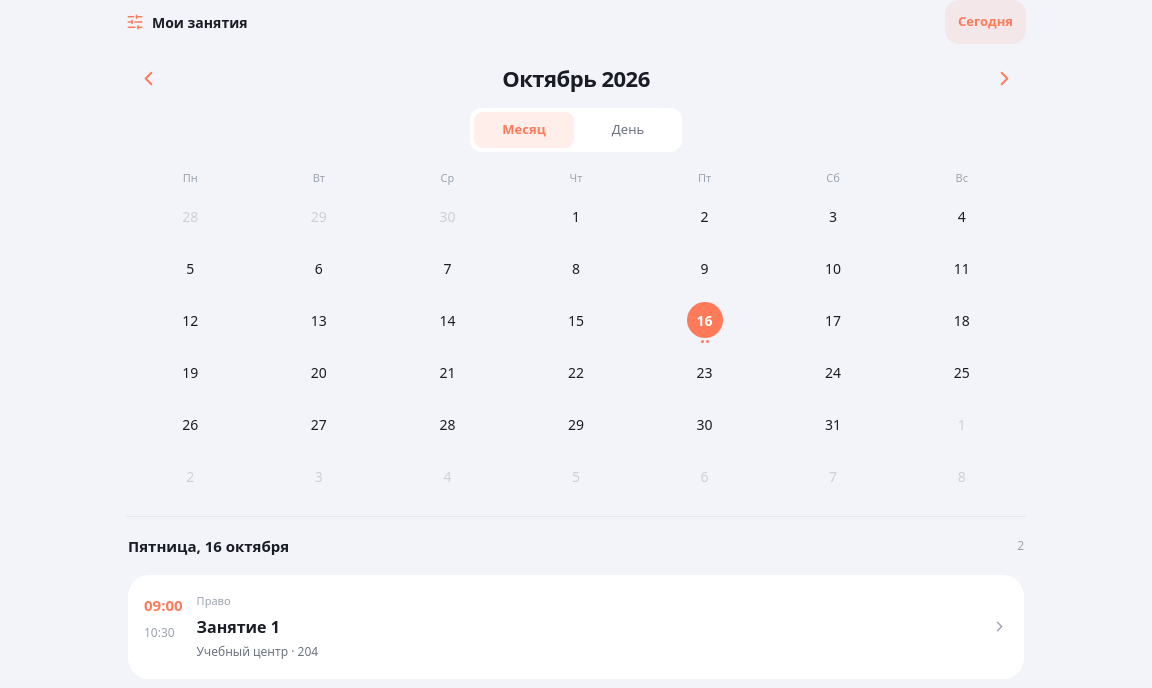
Test: student calendar › starts in the current month with a personal schedule, then opens day and event detail
Expected: the button "09:00 10:30 Право Занятие 1 Учебный центр · 204" is shown, [128,575,1024,679]
Click the button named "пятница, 16 октября, сегодня": (705, 324) [640,298,769,350]
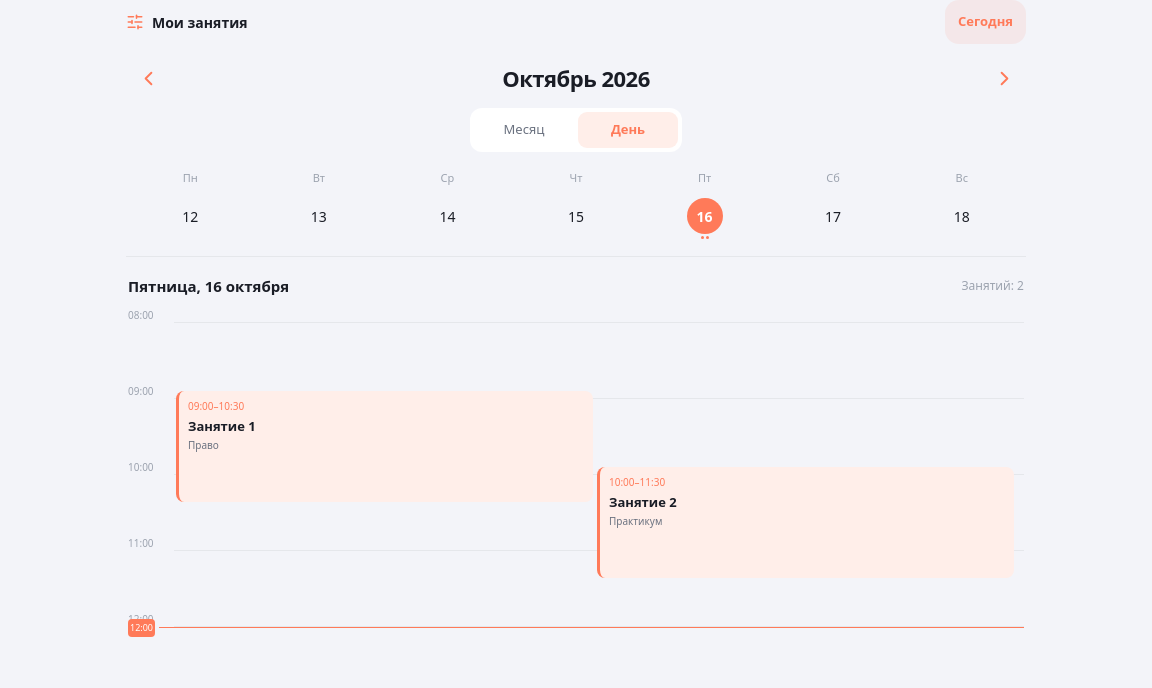
Now the element named "Дни недели" is shown, box [126,194,1026,256]
Click the button with aria-label "09:00–10:30, Занятие 1": (222, 426) [176,391,593,502]
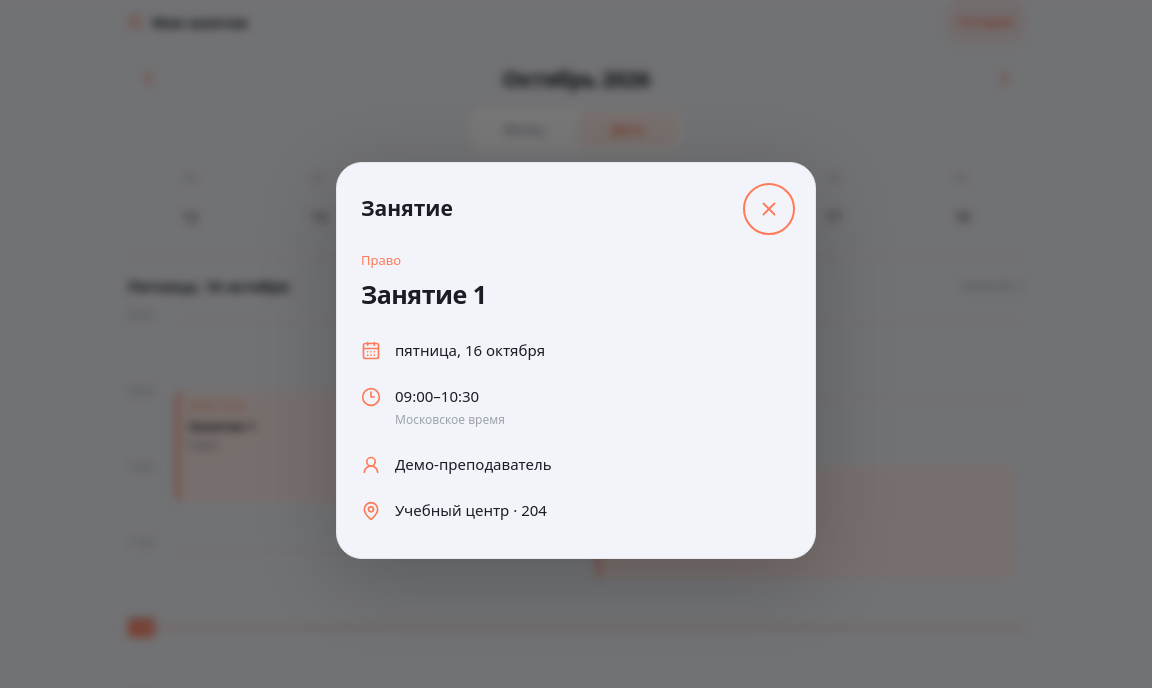
Now the dialog "Занятие" is shown, box [336,162,816,558]
Now the text "Демо-преподаватель" is shown, box [395,452,552,475]
Click the button named "Закрыть окно": (769, 208) [747,186,791,230]
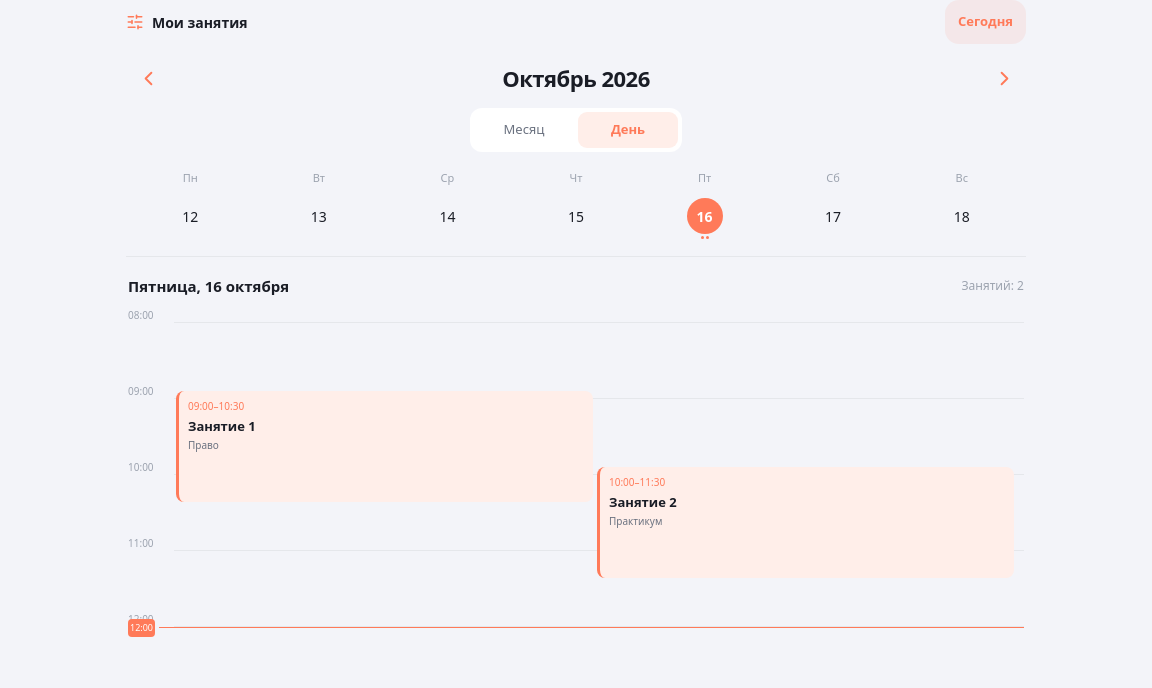
Now the dialog is gone
